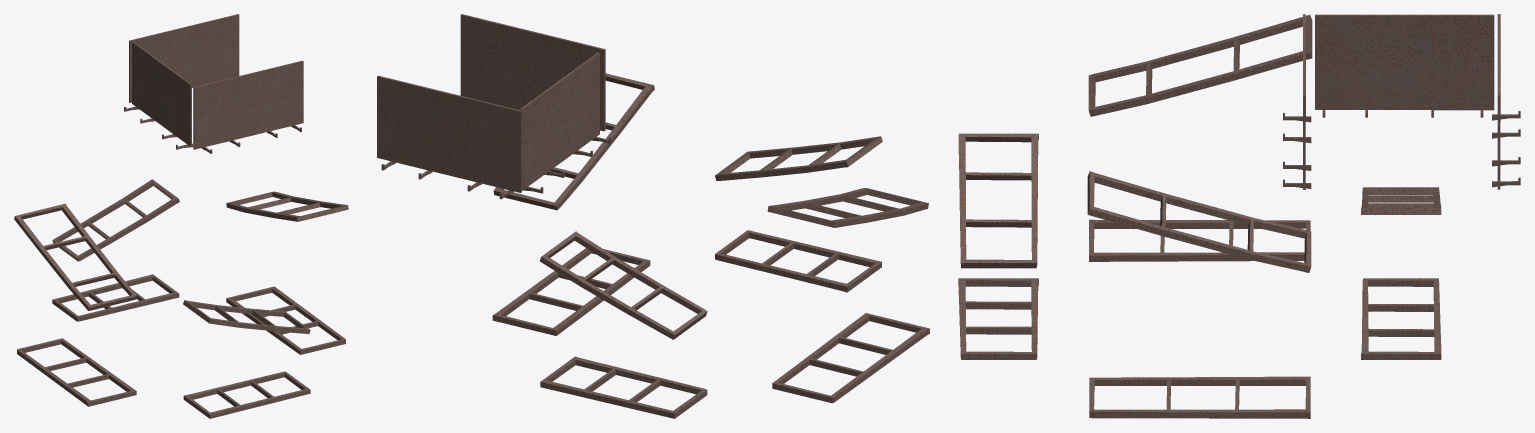
The model's file is SM_NeoLD_11_Metal_00.fbx.
The picture shows the model from 3 angles, left to right: view 1: azimuth 30°, elevation 25°; view 2: azimuth 150°, elevation 25°; view 3: azimuth 270°, elevation 25°; orthographic projection. The views are drawn at different scales.
Visible parts, largest first — view 1: SM_NeoLD_11_Metal_00; view 2: SM_NeoLD_11_Metal_00; view 3: SM_NeoLD_11_Metal_00.
Part boxes in pixels (x1,y1,x2,y2): SM_NeoLD_11_Metal_00: (14, 14, 348, 418); SM_NeoLD_11_Metal_00: (377, 14, 929, 418); SM_NeoLD_11_Metal_00: (958, 14, 1520, 418).
Bounding box in the file's own units: 2162 × 1622 × 2411.
